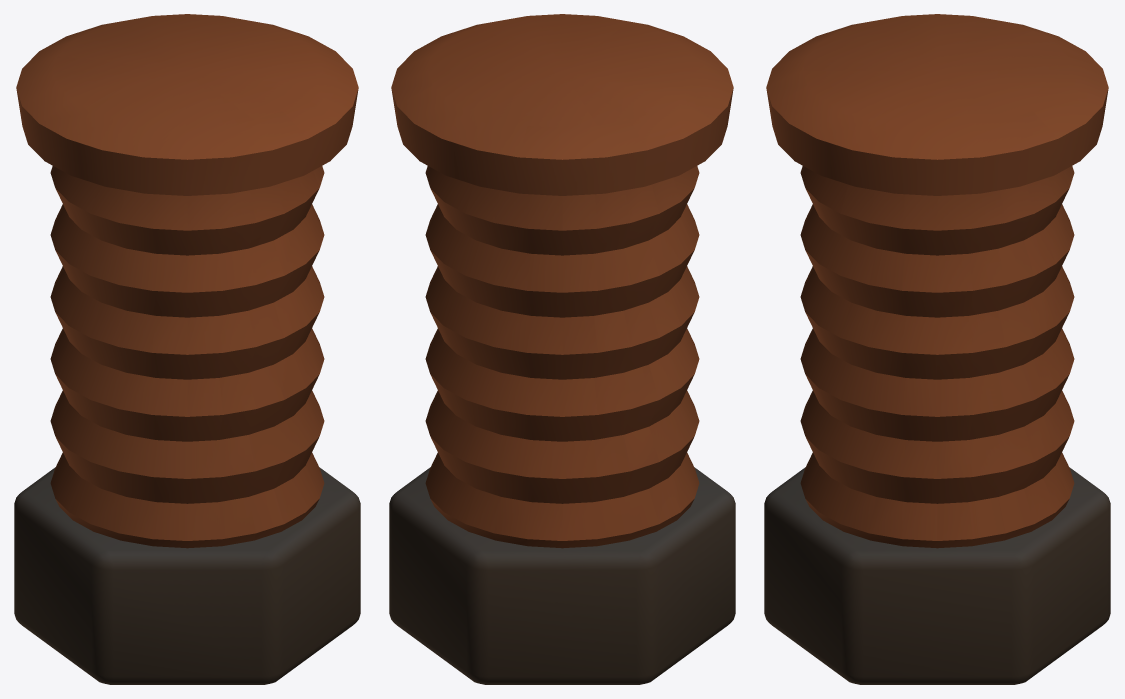
The model's file is mire_rusty_bolt.glb.
3 renders of one model, left to right at view 1: azimuth 30°, elevation 25°; view 2: azimuth 150°, elevation 25°; view 3: azimuth 270°, elevation 25°, orthographic.
Visible parts, largest first — view 1: mire_rusty_bolt; view 2: mire_rusty_bolt; view 3: mire_rusty_bolt.
Boxes of the visible parts, bbox=[...] form: mire_rusty_bolt: bbox=[14, 14, 360, 684]; mire_rusty_bolt: bbox=[389, 14, 735, 684]; mire_rusty_bolt: bbox=[764, 14, 1110, 684].
Bounding box in the file's own units: 2.8 × 5 × 2.83.
